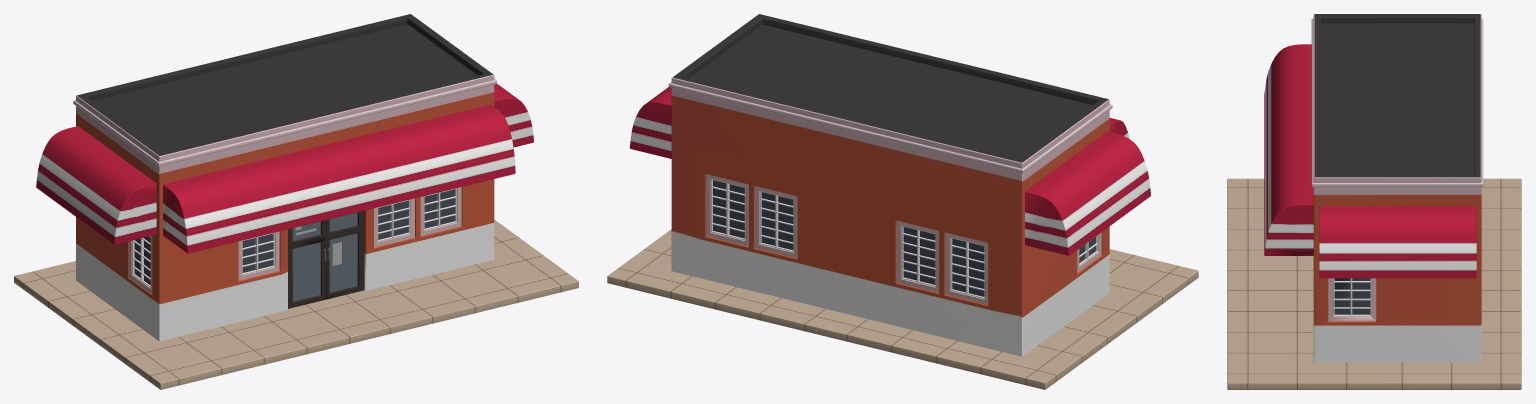
File: convenience-store.glb
3 renders of one model, left to right at view 1: azimuth 30°, elevation 25°; view 2: azimuth 150°, elevation 25°; view 3: azimuth 270°, elevation 25°, orthographic. The views are drawn at different scales.
Parts seen in each view (by area): view 1: store.1; view 2: store.1; view 3: store.1.
Part boxes in pixels (box(x1,y1,x2,y2)): store.1: box(14, 14, 578, 389); store.1: box(607, 14, 1198, 389); store.1: box(1227, 14, 1521, 389).
Size of the model in its own units: 8.87 by 3.87 by 5.37.
Materials: 1 (1 with a texture image).
